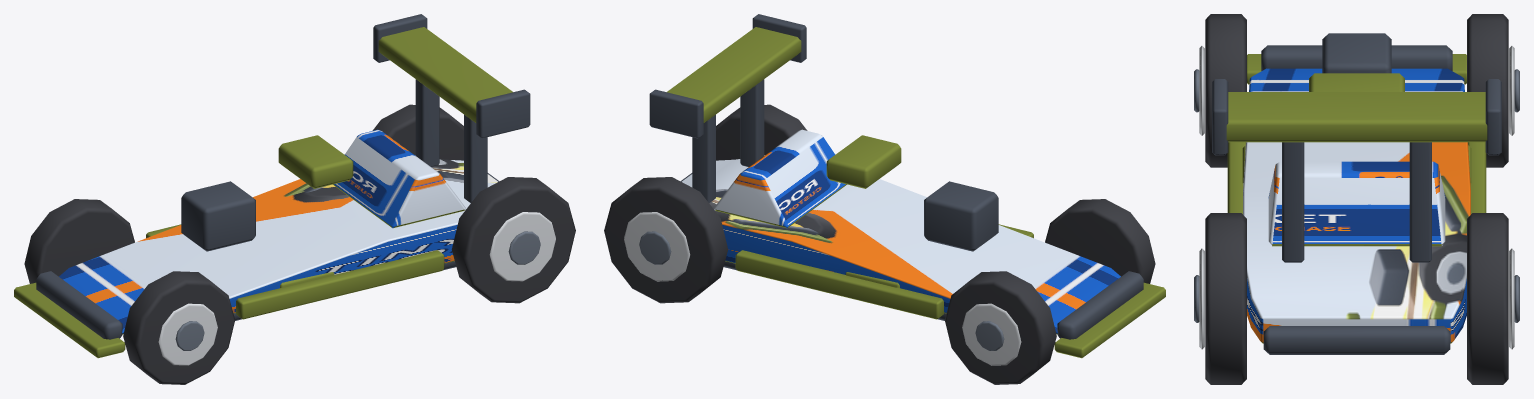
The picture shows the model from 3 angles, left to right: view 1: azimuth 30°, elevation 25°; view 2: azimuth 150°, elevation 25°; view 3: azimuth 270°, elevation 25°; orthographic projection. The views are drawn at different scales.
Visible parts, largest first — view 1: TC-04_connected_shell, Tire.002, TC-04_cabin, Tire, Tire.001, rear airfoil, custom side guard, engine scoop, custom equipment, Rim.002, custom chin, front bumper (+8 smaller); view 2: TC-04_connected_shell, Tire.003, TC-04_cabin, Tire.001, Tire, rear airfoil, custom side guard.001, engine scoop, custom equipment, Rim.003, custom chin, front bumper (+8 smaller); view 3: TC-04_connected_shell, rear airfoil, TC-04_cabin, Tire.002, Tire.003, rear bumper, Tire, Tire.001, front bumper, engine scoop, wing support, wing support.001 (+10 smaller).
Part boxes in pixels (bbox=[...]): TC-04_connected_shell: bbox=[59, 155, 497, 334]; Tire.002: bbox=[451, 177, 575, 303]; TC-04_cabin: bbox=[333, 129, 465, 228]; Tire: bbox=[123, 271, 234, 384]; Tire.001: bbox=[24, 199, 134, 283]; rear airfoil: bbox=[378, 27, 512, 122]; custom side guard: bbox=[236, 250, 444, 319]; engine scoop: bbox=[181, 181, 255, 251]; custom equipment: bbox=[278, 135, 353, 188]; Rim.002: bbox=[489, 212, 555, 281]; custom chin: bbox=[14, 282, 125, 358]; front bumper: bbox=[36, 271, 122, 339]; TC-04_connected_shell: bbox=[682, 155, 1120, 334]; Tire.003: bbox=[604, 177, 728, 303]; TC-04_cabin: bbox=[714, 129, 846, 228]; Tire.001: bbox=[945, 271, 1056, 384]; Tire: bbox=[1045, 199, 1155, 283]; rear airfoil: bbox=[667, 27, 801, 122]; custom side guard.001: bbox=[735, 250, 943, 319]; engine scoop: bbox=[924, 181, 998, 251]; custom equipment: bbox=[826, 135, 901, 188]; Rim.003: bbox=[624, 212, 690, 281]; custom chin: bbox=[1054, 282, 1165, 358]; front bumper: bbox=[1057, 271, 1143, 339]; TC-04_connected_shell: bbox=[1243, 68, 1470, 343]; rear airfoil: bbox=[1226, 92, 1487, 142]; TC-04_cabin: bbox=[1268, 161, 1445, 246]; Tire.002: bbox=[1205, 213, 1246, 384]; Tire.003: bbox=[1467, 213, 1508, 384]; rear bumper: bbox=[1263, 326, 1450, 354]; Tire: bbox=[1205, 14, 1246, 167]; Tire.001: bbox=[1467, 14, 1508, 167]; front bumper: bbox=[1261, 45, 1452, 70]; engine scoop: bbox=[1322, 33, 1391, 73]; wing support: bbox=[1282, 142, 1304, 262]; wing support.001: bbox=[1409, 142, 1431, 262].
Size of the model in its own units: 444 by 189 by 203.
